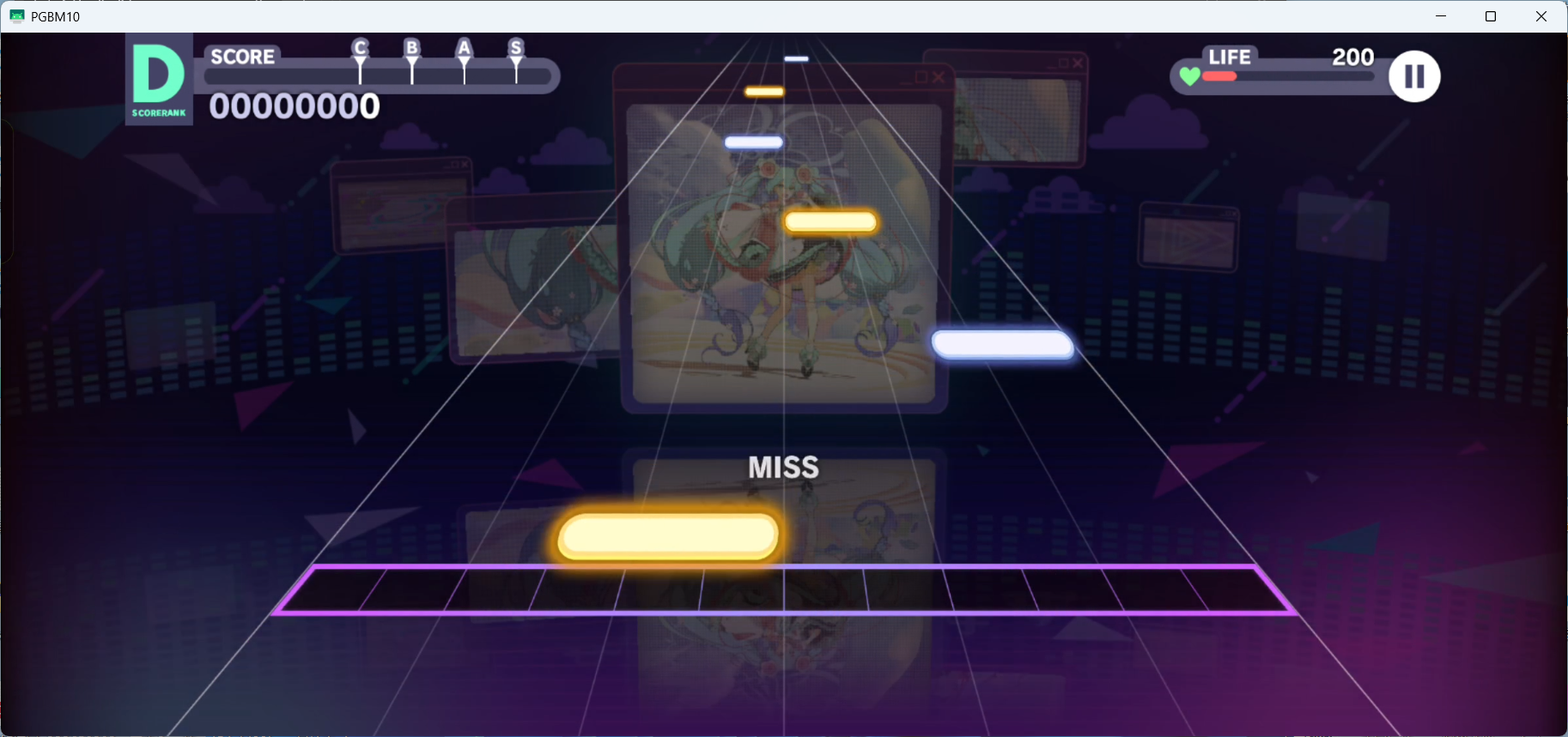tap: (556, 508, 780, 561), (930, 329, 1075, 361), (786, 211, 876, 232), (725, 136, 783, 148), (745, 85, 784, 98), (784, 56, 809, 63)
